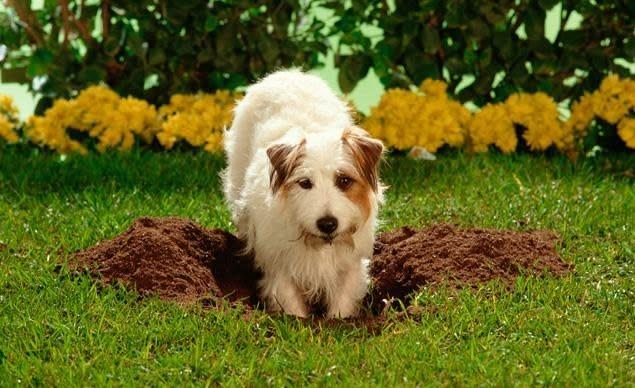adult_dog: (224, 65, 391, 322)
